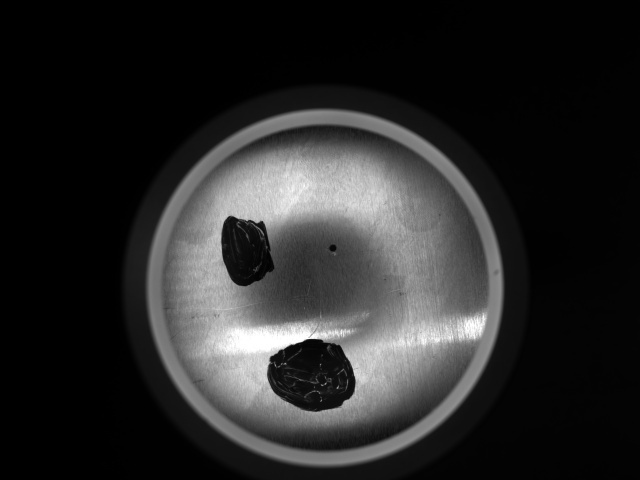zang_wu: (263, 337, 365, 413), (218, 213, 282, 288), (327, 240, 341, 257)
